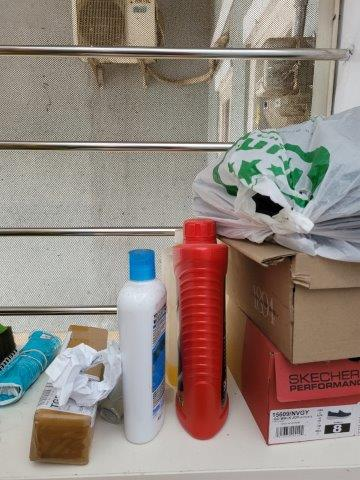kertas: (40, 338, 125, 409)
plastik: (192, 109, 360, 258)
